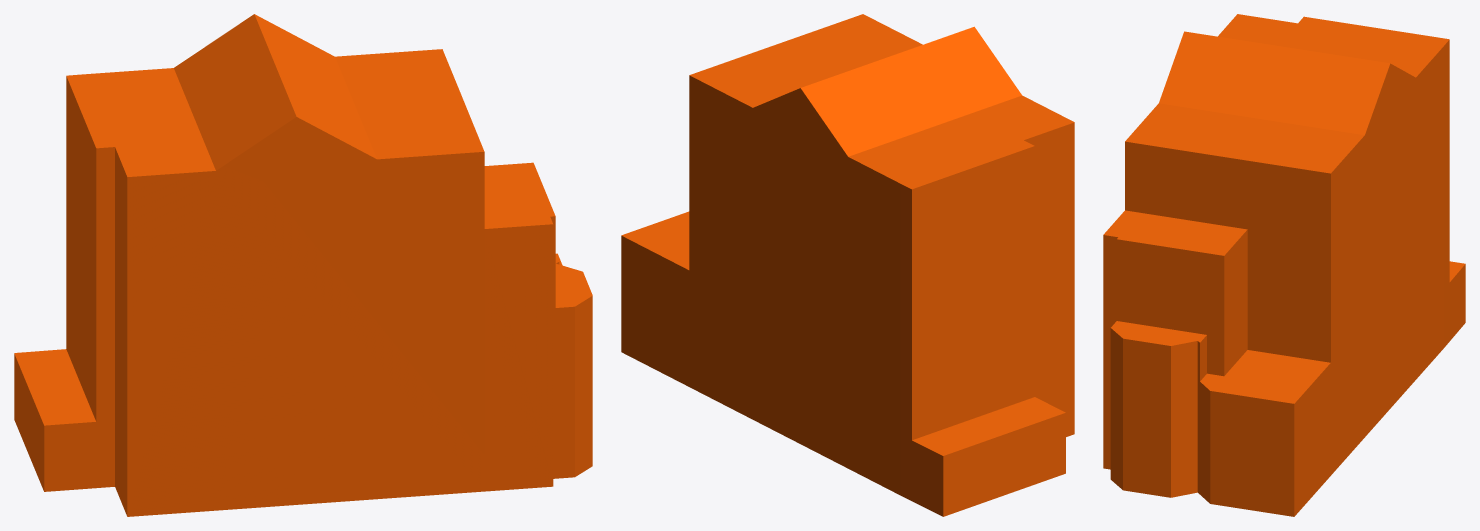
Rendered from DEHB01ALn0001NC5.dae.
3 views of the same model, side by side, from view 1: azimuth 30°, elevation 25°; view 2: azimuth 150°, elevation 25°; view 3: azimuth 270°, elevation 25° (orthographic). The views are drawn at different scales.
Size of the model in its own units: 21.61 by 15.28 by 16.06.
